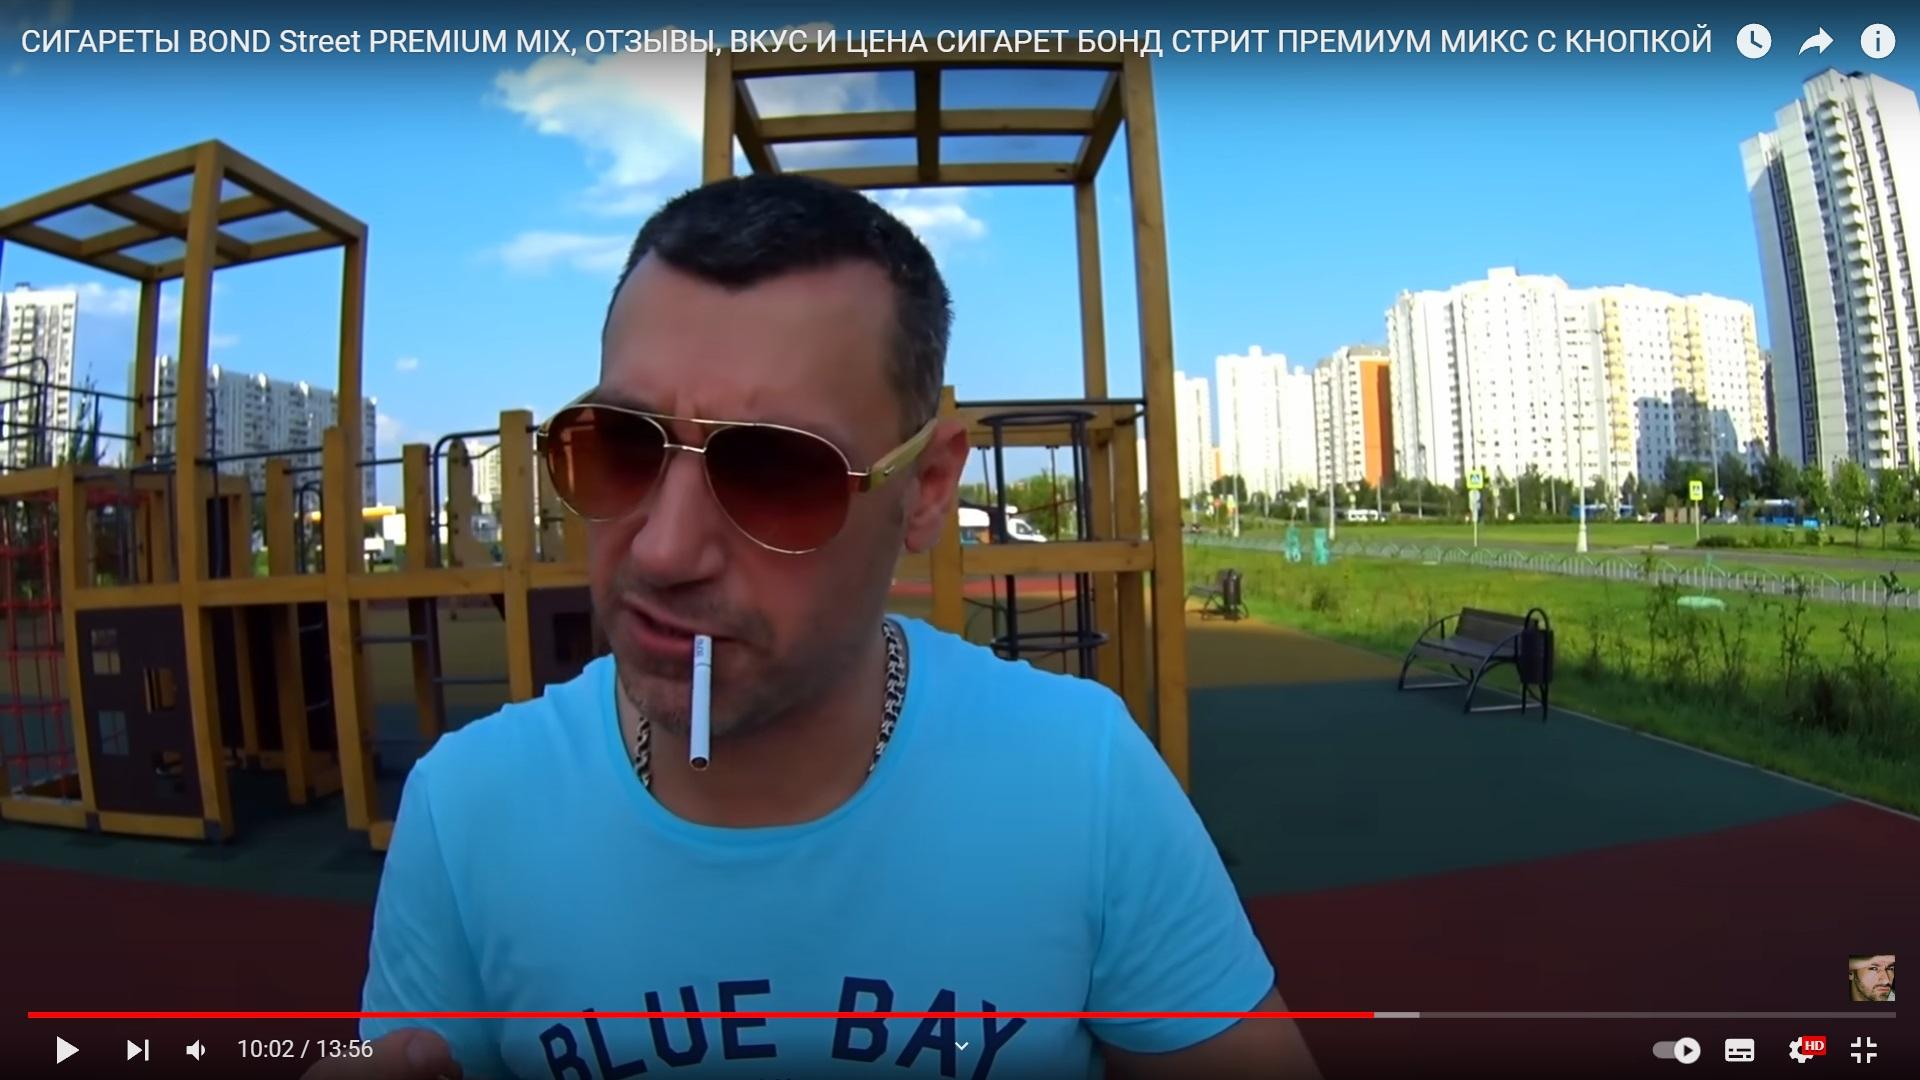cigarette: (690, 634, 712, 769)
